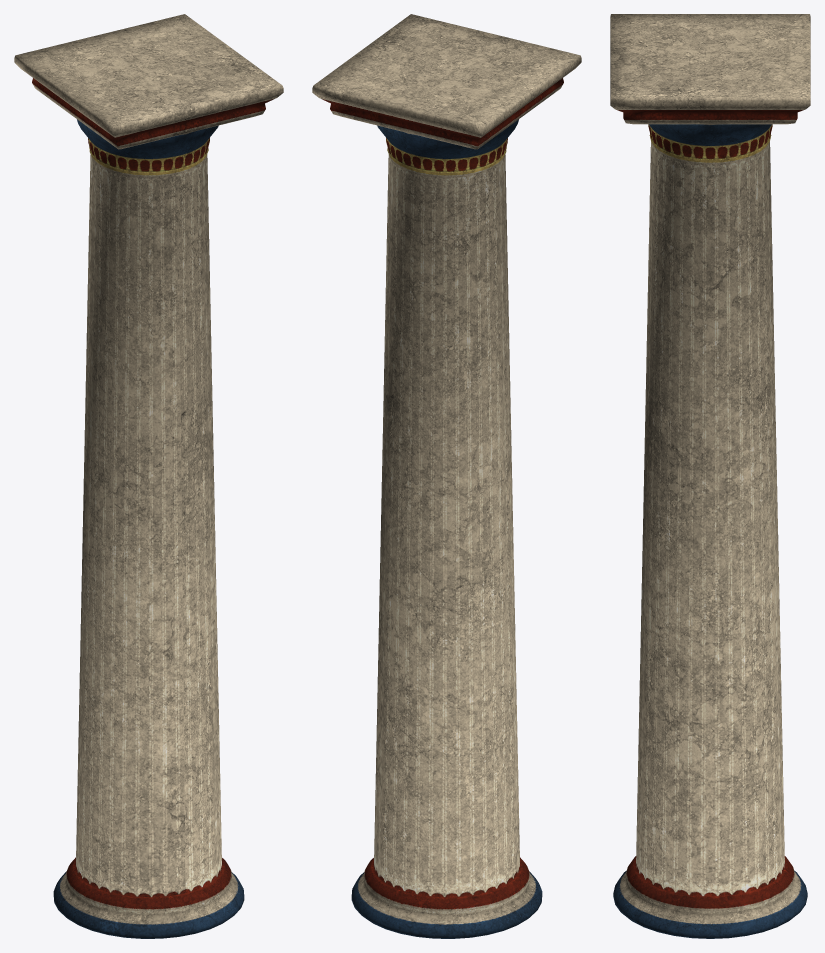
File: column.glb
3 views of the same model, side by side, from view 1: azimuth 30°, elevation 25°; view 2: azimuth 150°, elevation 25°; view 3: azimuth 270°, elevation 25° (orthographic).
Parts seen in each view (by area): view 1: ColumnOrderDoric; view 2: ColumnOrderDoric; view 3: ColumnOrderDoric.
Part boxes in pixels (x1,y1,x2,y2): ColumnOrderDoric: [14, 14, 283, 938]; ColumnOrderDoric: [312, 14, 581, 938]; ColumnOrderDoric: [610, 14, 810, 938].
Size of the model in its own units: 2.8 by 13 by 2.8.
Materials: 1 (1 with a texture image).
